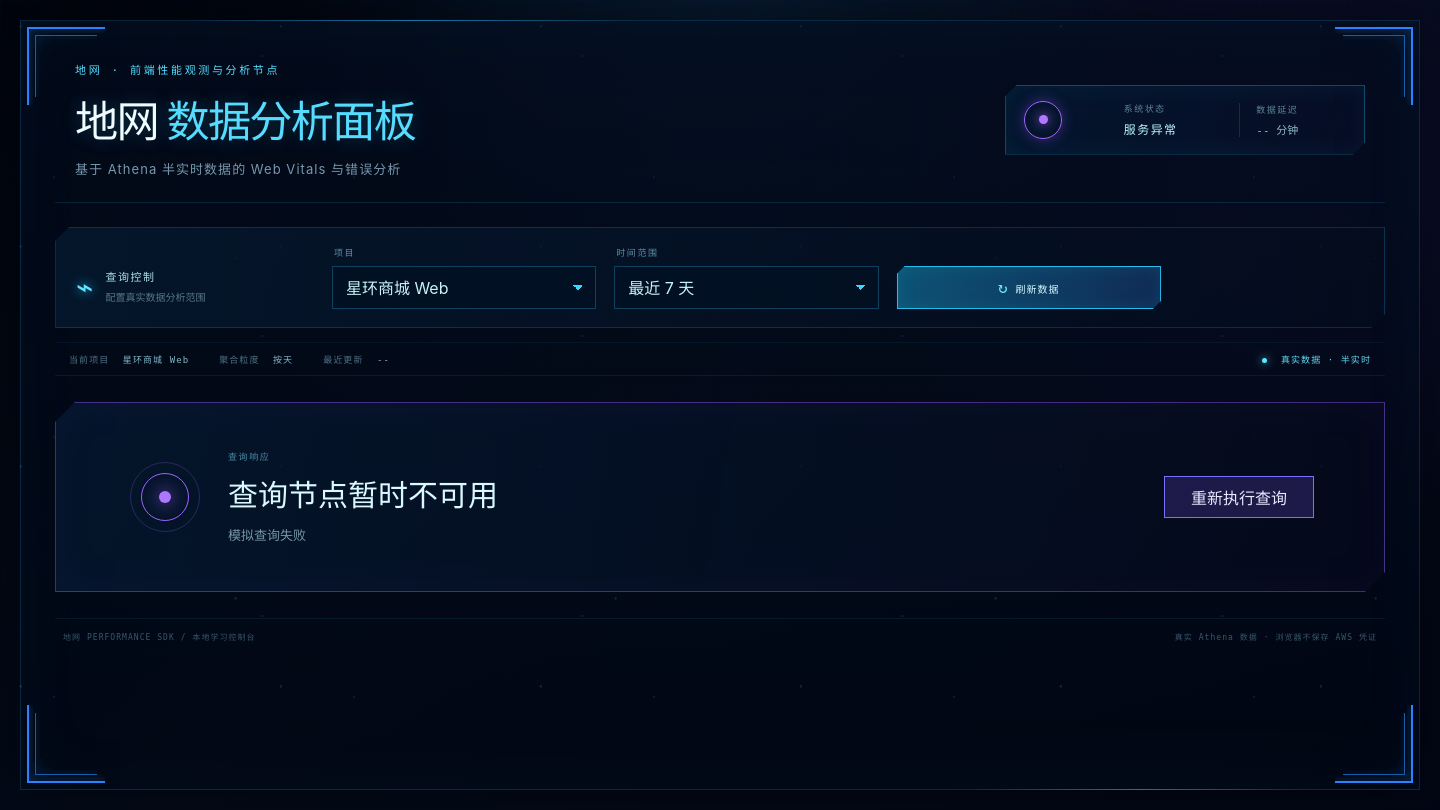
Test case: Dashboard 页面骨架 › 展示查询失败并允许重试
The width and height of the screenshot is (1440, 810).
Expected: the heading "查询节点暂时不可用" is shown, [228, 477, 498, 513]
Expected: the text "模拟查询失败" is shown, [228, 527, 306, 543]
Click the button "重新执行查询".
click(1239, 497)  # box [1164, 476, 1314, 518]
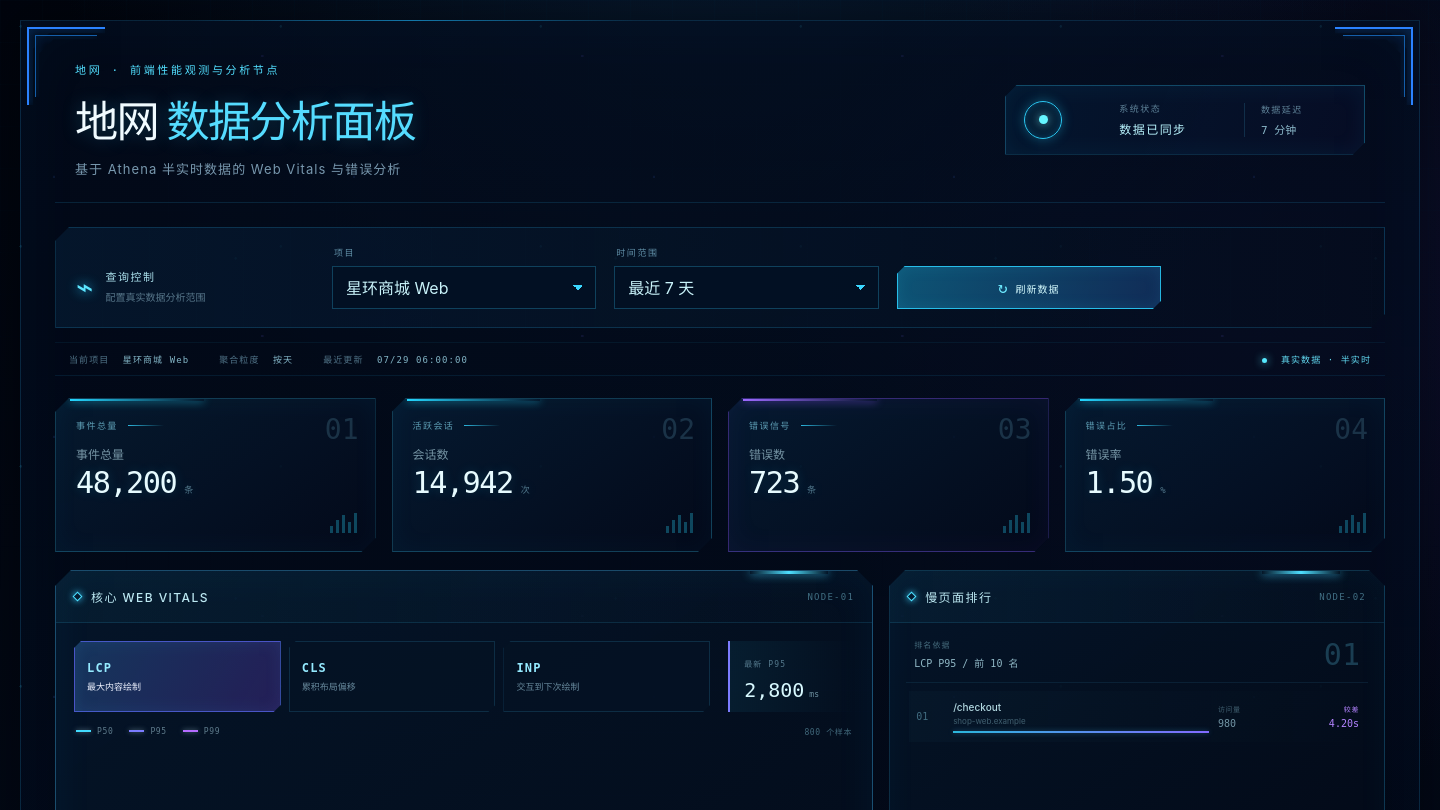
Result: the text "48,200" is shown at [76, 465, 176, 500]
